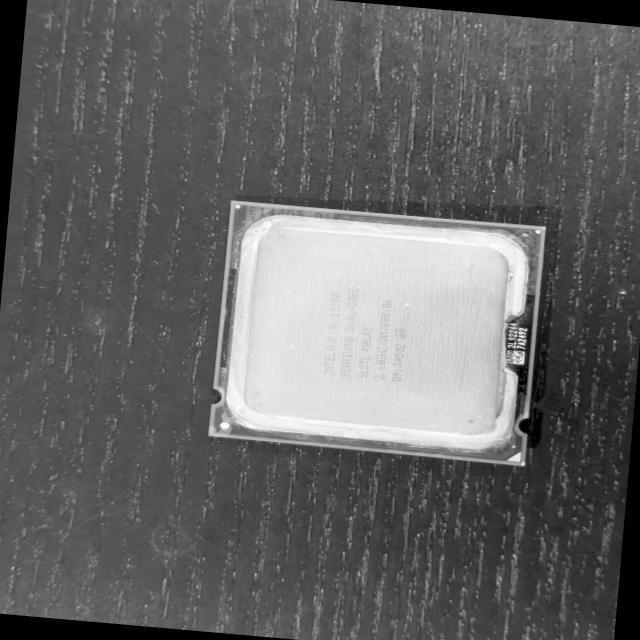CPU: (210, 200, 544, 465)
